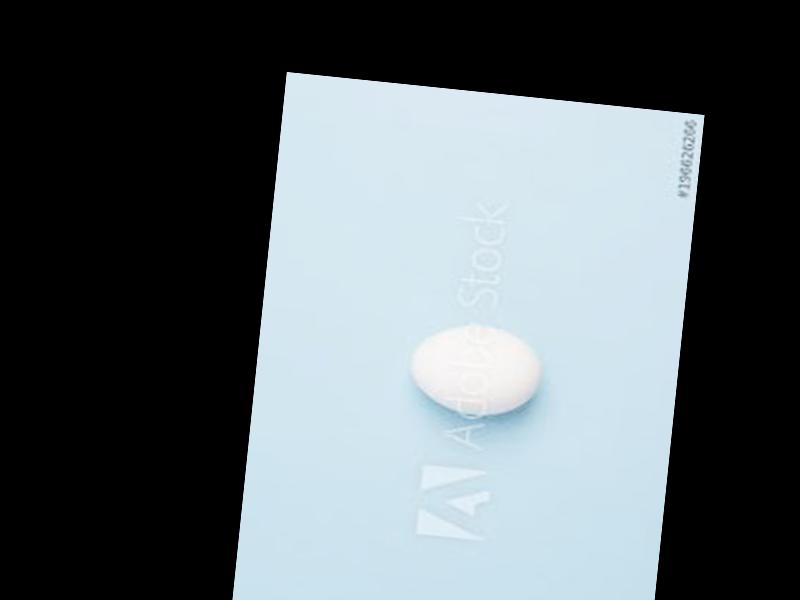Eggs: (409, 320, 543, 420)
